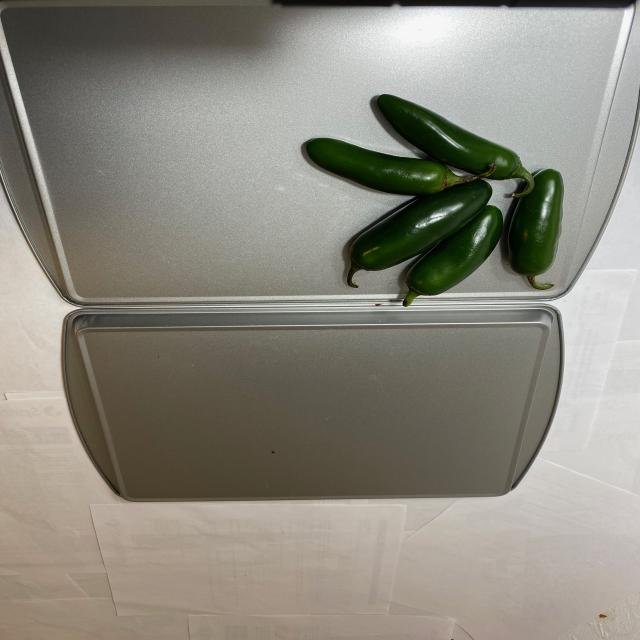chilli: (294, 83, 564, 307)
